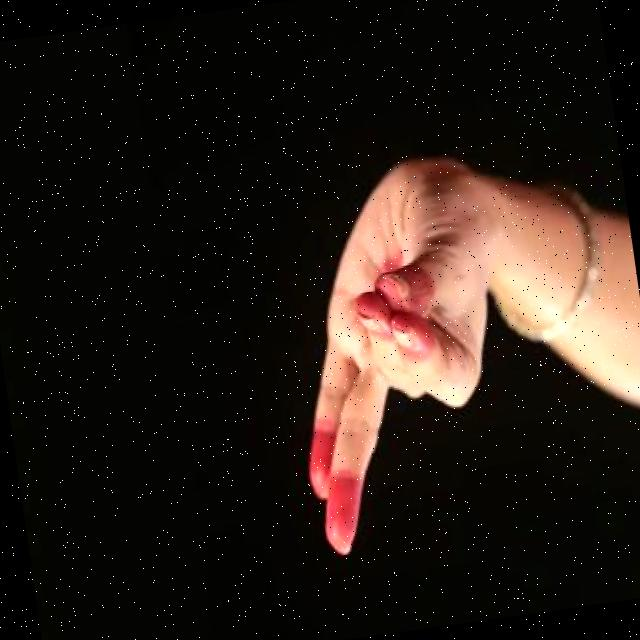Katakamukha: (232, 113, 574, 592)
